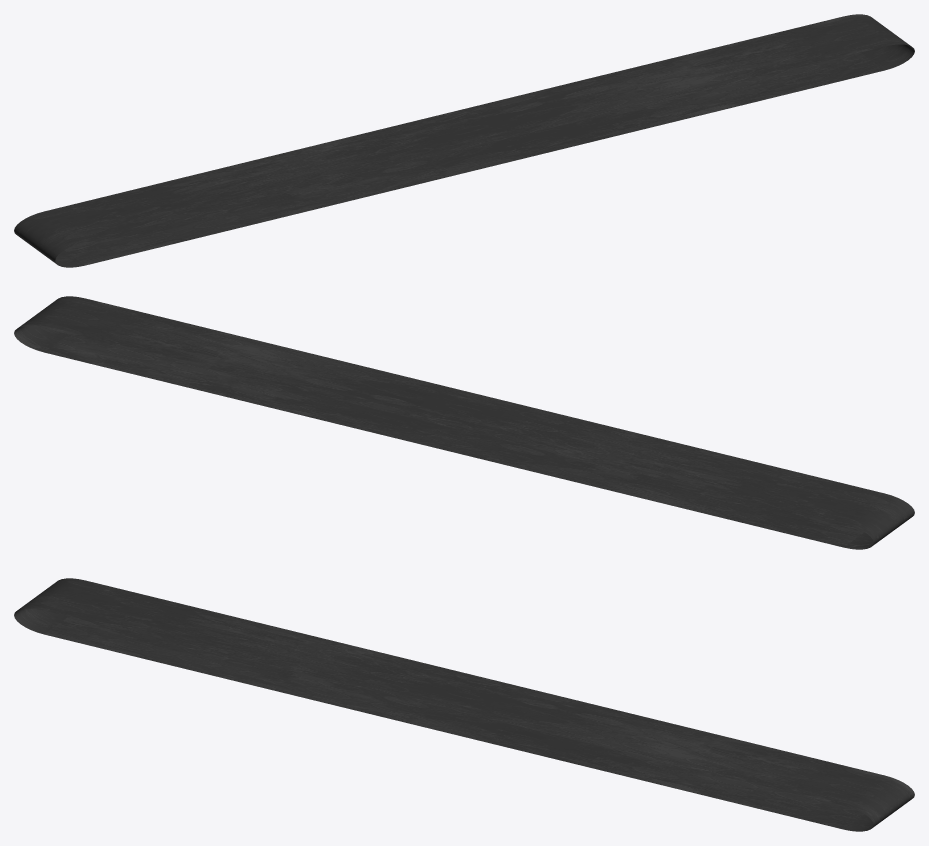
Rendered from beltconveyor.obj.
3 renders of one model, top to bottom at view 1: azimuth 30°, elevation 25°; view 2: azimuth 150°, elevation 25°; view 3: azimuth 330°, elevation 25°, orthographic.
Visible parts, largest first — view 1: Conveyor01Belt_Belt_0; view 2: Conveyor01Belt_Belt_0; view 3: Conveyor01Belt_Belt_0.
Boxes of the visible parts, x1,y1,x2,y2 form: Conveyor01Belt_Belt_0: (14, 14, 914, 267); Conveyor01Belt_Belt_0: (14, 296, 914, 549); Conveyor01Belt_Belt_0: (14, 578, 914, 831).
Size of the model in its own units: 89.85 by 2.39 by 7.46.
1 material, 1 textured.
